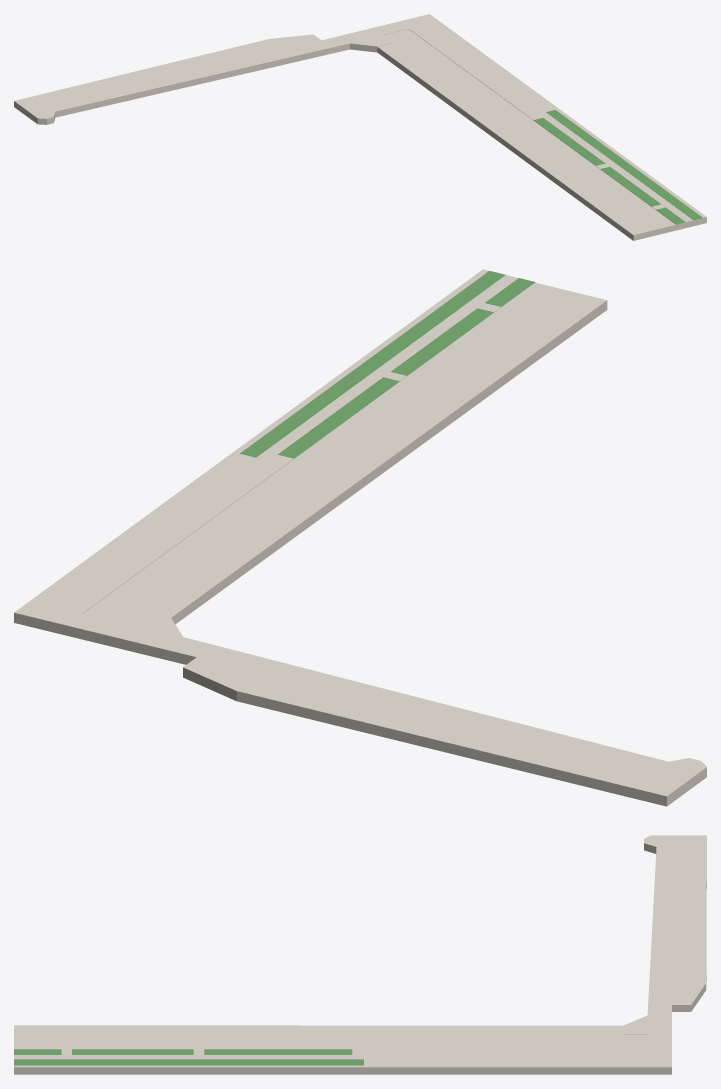
Rendered from SM_Blockout_Passeggiata_Pav_v5.fbx.
The picture shows the model from 3 angles, top to bottom: view 1: azimuth 30°, elevation 25°; view 2: azimuth 150°, elevation 25°; view 3: azimuth 270°, elevation 25°; orthographic projection. The views are drawn at different scales.
Parts seen in each view (by area): view 1: SM_Blockout_PassPav_v5_Lastra, SM_Blockout_PassPav_v5_Molo, SM_Blockout_PassPav_v5_Aiuole; view 2: SM_Blockout_PassPav_v5_Lastra, SM_Blockout_PassPav_v5_Molo, SM_Blockout_PassPav_v5_Aiuole; view 3: SM_Blockout_PassPav_v5_Lastra, SM_Blockout_PassPav_v5_Molo, SM_Blockout_PassPav_v5_Aiuole.
Part boxes in pixels (left/top/right/bottom): SM_Blockout_PassPav_v5_Lastra: left=322, top=14, right=706, bottom=240; SM_Blockout_PassPav_v5_Molo: left=14, top=34, right=331, bottom=124; SM_Blockout_PassPav_v5_Aiuole: left=534, top=110, right=702, bottom=224; SM_Blockout_PassPav_v5_Lastra: left=14, top=269, right=607, bottom=664; SM_Blockout_PassPav_v5_Molo: left=183, top=645, right=706, bottom=806; SM_Blockout_PassPav_v5_Aiuole: left=240, top=271, right=534, bottom=458; SM_Blockout_PassPav_v5_Lastra: left=14, top=1005, right=671, bottom=1074; SM_Blockout_PassPav_v5_Molo: left=644, top=835, right=706, bottom=1011; SM_Blockout_PassPav_v5_Aiuole: left=14, top=1049, right=363, bottom=1065.
Size of what is drawn, in the model's own units: 20780 by 26230 by 305.
